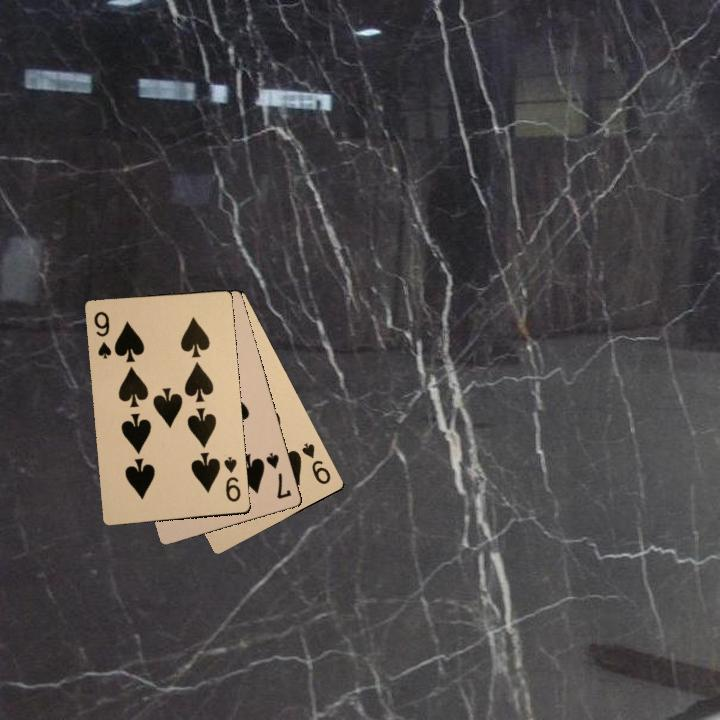7s: (262, 448, 294, 501)
9s: (297, 439, 333, 487), (90, 307, 114, 361), (220, 452, 243, 504)
